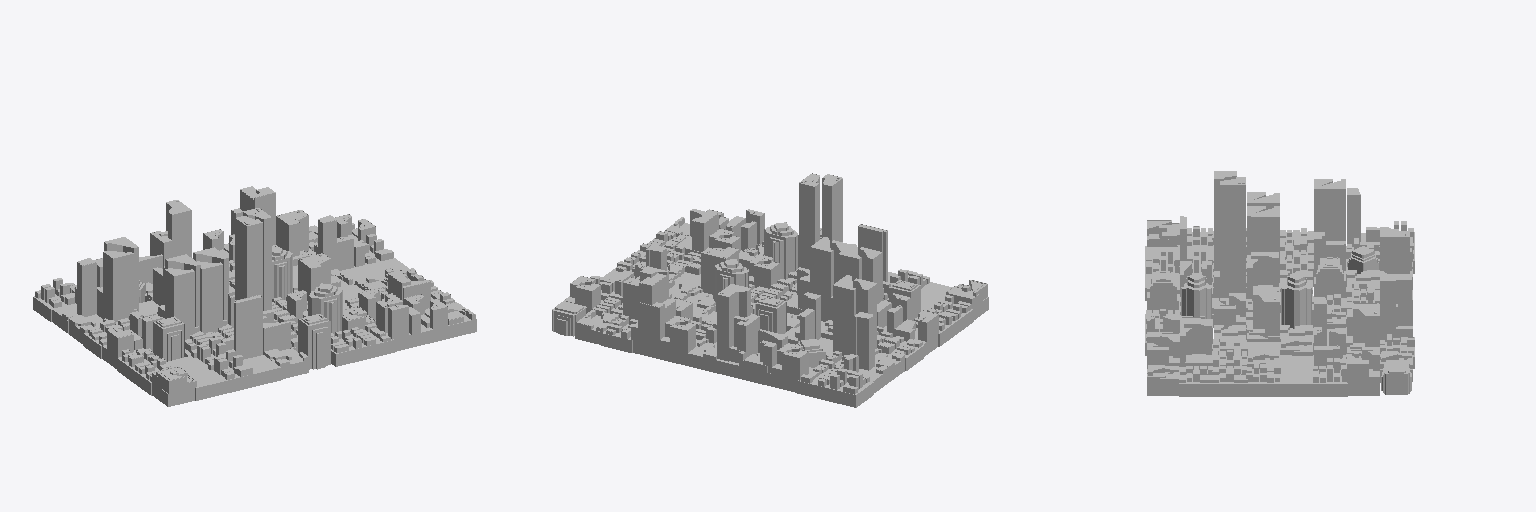
Rendered from building05.obj.
The picture shows the model from 3 angles: view 1: azimuth 30°, elevation 25°; view 2: azimuth 150°, elevation 25°; view 3: azimuth 270°, elevation 25°; orthographic projection.
Parts seen in each view (by area): view 1: Mograph_City_Rig.3; view 2: Mograph_City_Rig.3; view 3: Mograph_City_Rig.3.
Boxes of the visible parts, <box> form: Mograph_City_Rig.3: <box>33,186,476,406</box>; Mograph_City_Rig.3: <box>552,173,988,407</box>; Mograph_City_Rig.3: <box>1145,171,1414,396</box>.
Bounding box in the file's own units: 4036 × 1609 × 3025.